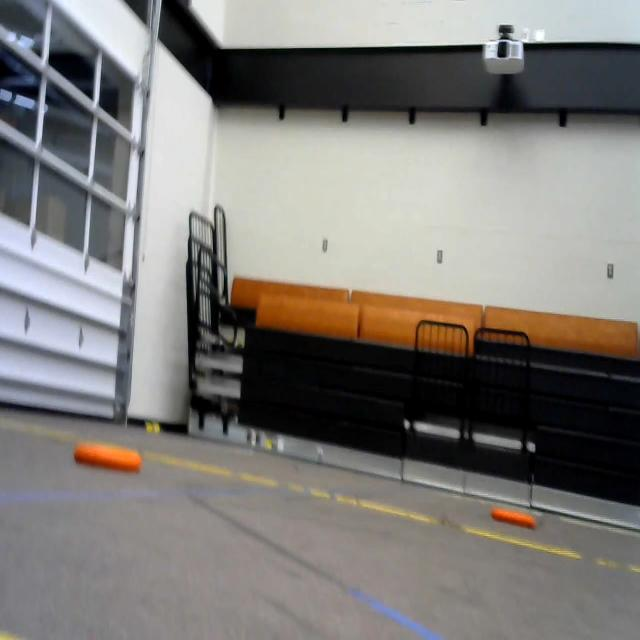note: (70, 435, 149, 483), (484, 500, 550, 538)
